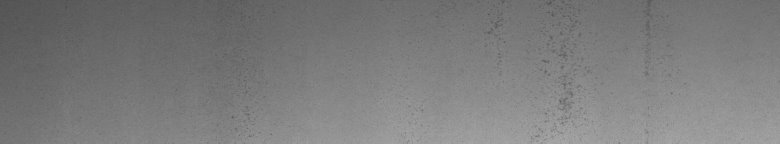ib: (484, 12, 582, 132)
